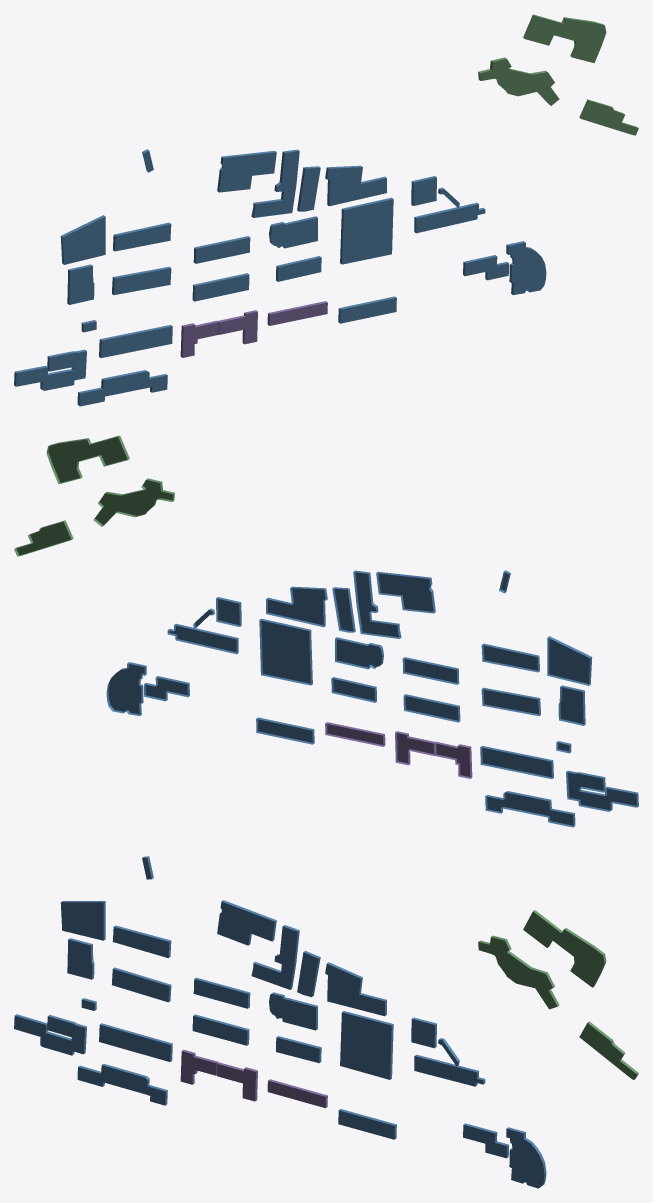
The model's file is buildings_k06.obj.
The picture shows the model from 3 angles, top to bottom: view 1: azimuth 30°, elevation 25°; view 2: azimuth 150°, elevation 25°; view 3: azimuth 330°, elevation 25°; orthographic projection.
Visible parts, largest first — view 1: roof4, roof3, zone4, roof5, zone3; view 2: roof4, zone4, roof3, roof5, zone3, zone5; view 3: roof4, zone4, roof3, roof5, zone3, zone5.
Boxes of the visible parts, left/top/right/bottom form: roof4: left=16, top=151, right=546, bottom=406; roof3: left=480, top=16, right=638, bottom=135; zone4: left=14, top=149, right=531, bottom=405; roof5: left=182, top=302, right=327, bottom=357; zone3: left=478, top=14, right=637, bottom=127; roof4: left=108, top=572, right=636, bottom=825; zone4: left=106, top=570, right=638, bottom=827; roof3: left=16, top=437, right=172, bottom=554; roof5: left=327, top=724, right=470, bottom=776; zone3: left=14, top=435, right=174, bottom=556; zone5: left=325, top=722, right=472, bottom=778; roof4: left=14, top=858, right=544, bottom=1188; zone4: left=15, top=856, right=546, bottom=1185; roof3: left=478, top=911, right=636, bottom=1079; roof5: left=180, top=1051, right=325, bottom=1108; zone3: left=478, top=910, right=638, bottom=1079; zone5: left=182, top=1049, right=327, bottom=1107.
Bounding box in the file's own units: 769 × 335 × 4.33.
